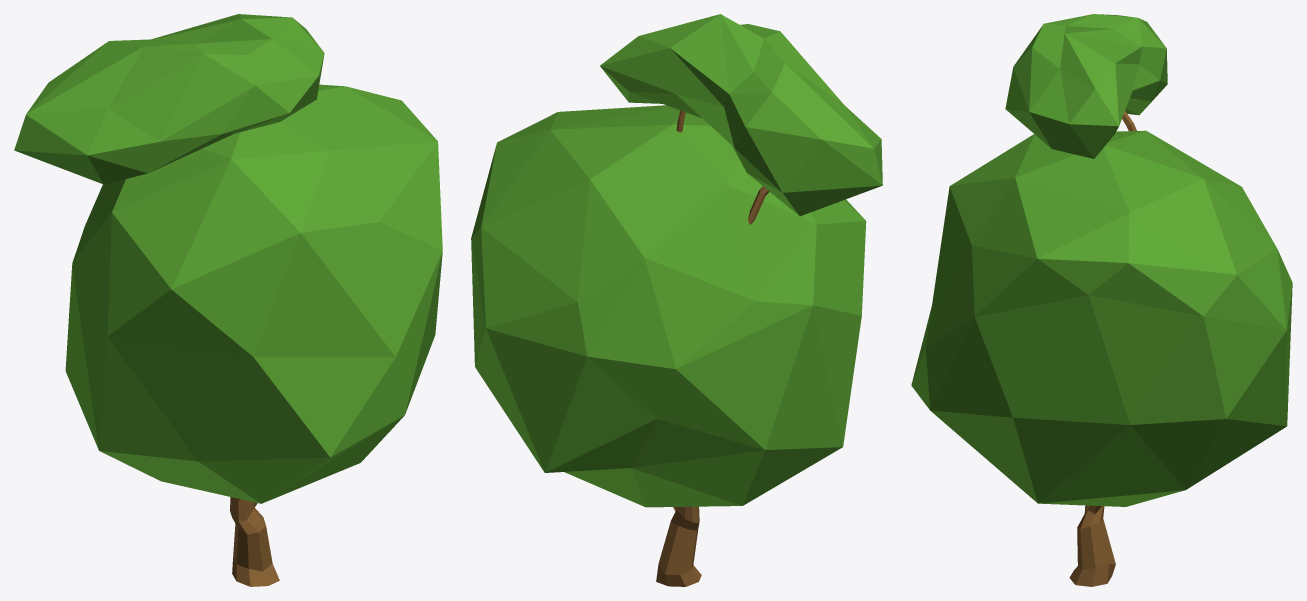
The model's file is Bush_3.fbx.
The picture shows the model from 3 angles, left to right: view 1: azimuth 30°, elevation 25°; view 2: azimuth 150°, elevation 25°; view 3: azimuth 270°, elevation 25°; orthographic projection. The views are drawn at different scales.
Visible parts, largest first — view 1: Bush_3; view 2: Bush_3; view 3: Bush_3.
Part boxes in pixels (x1,y1,x2,y2): Bush_3: [14, 14, 442, 586]; Bush_3: [471, 14, 882, 586]; Bush_3: [911, 14, 1292, 586].
Bounding box in the file's own units: 176 × 248 × 161.
